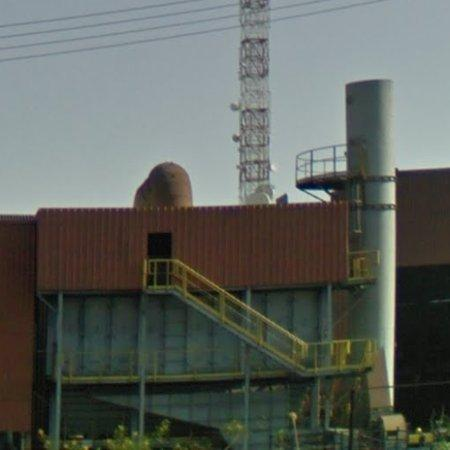stairs: (143, 259, 374, 378)
